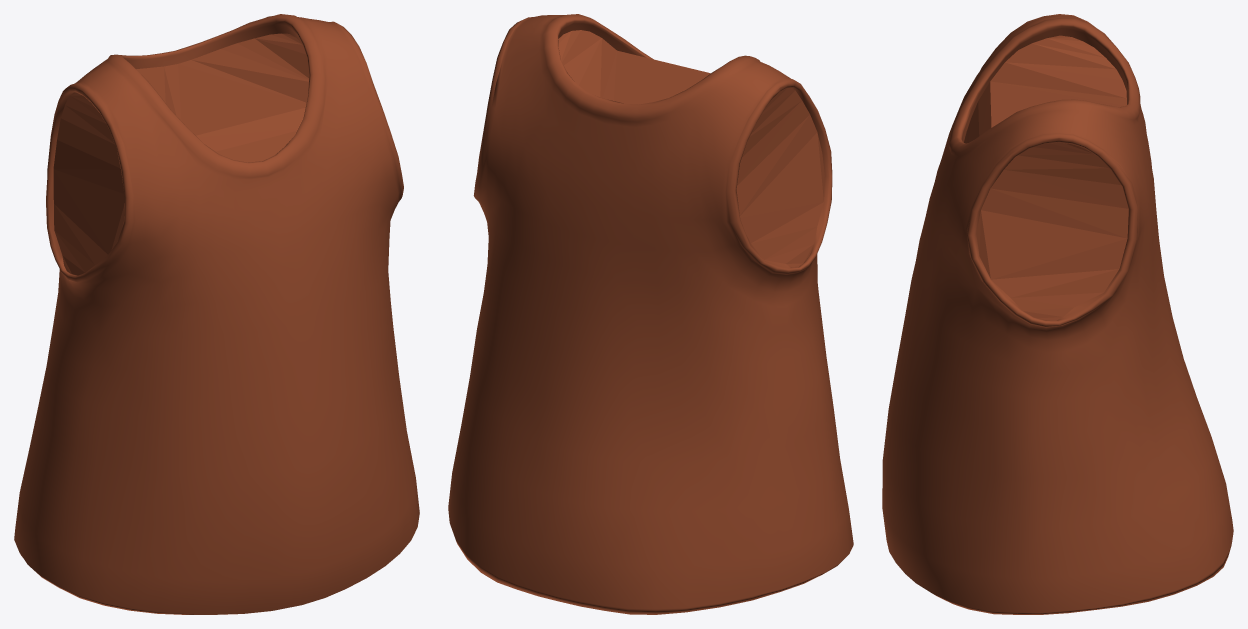
File: Dummy_top_001.glb
The picture shows the model from 3 angles, left to right: view 1: azimuth 30°, elevation 25°; view 2: azimuth 150°, elevation 25°; view 3: azimuth 270°, elevation 25°; orthographic projection. The views are drawn at different scales.
Visible parts, largest first — view 1: sleveless_shirt; view 2: sleveless_shirt; view 3: sleveless_shirt.
Part boxes in pixels (x1,y1,x2,y2): sleveless_shirt: (14,14,419,614); sleveless_shirt: (448,14,853,614); sleveless_shirt: (882,14,1233,614).
Size of the model in its own units: 2.26 by 2.97 by 1.96.
